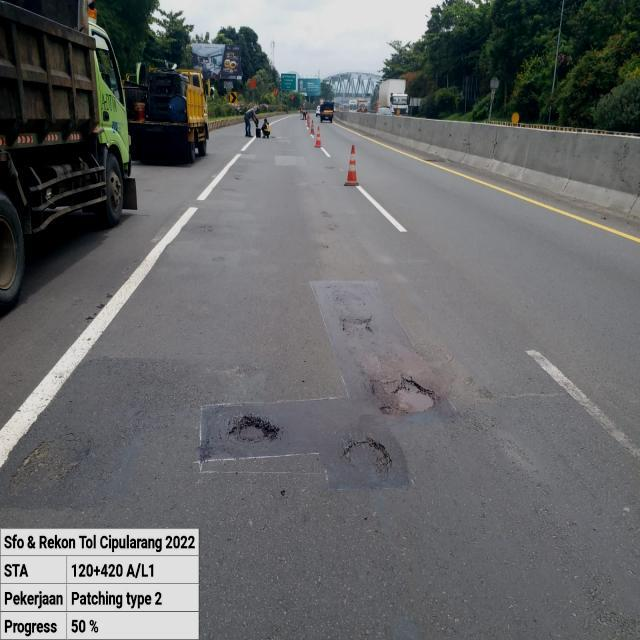Buraco: (366, 374, 444, 418), (336, 434, 396, 476), (224, 413, 284, 447), (338, 316, 376, 336), (422, 156, 456, 165), (596, 214, 610, 223)
